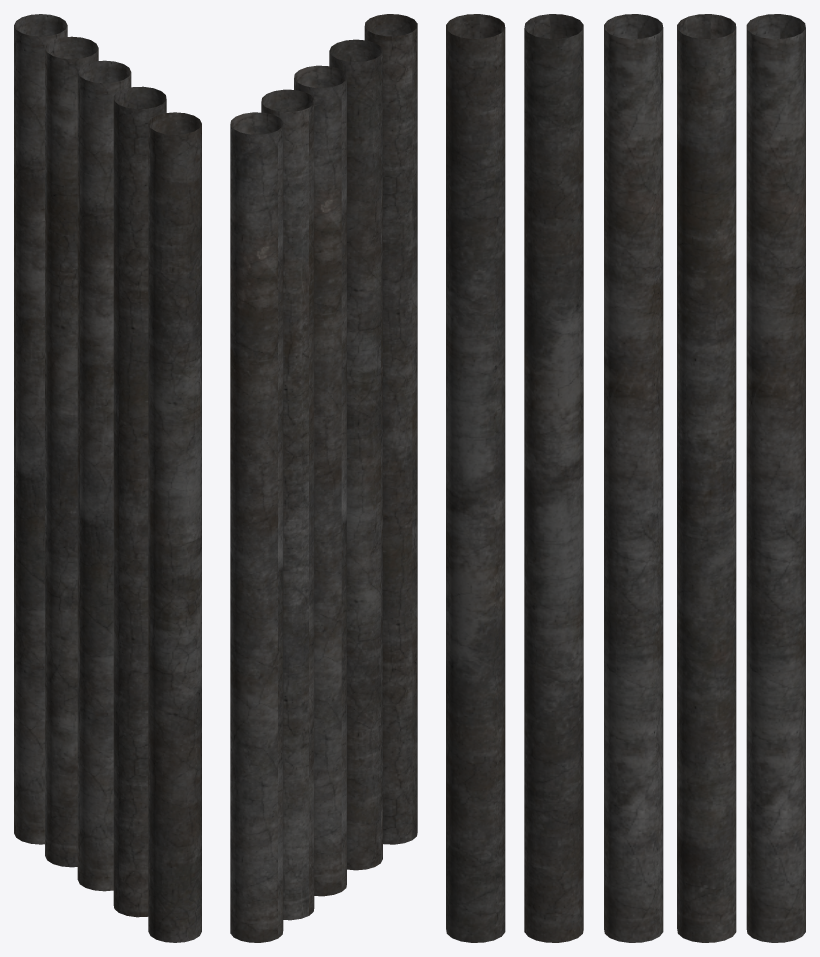
File: Shaft_Pipes_D.glb
3 views of the same model, side by side, from view 1: azimuth 30°, elevation 25°; view 2: azimuth 150°, elevation 25°; view 3: azimuth 270°, elevation 25° (orthographic). The views are drawn at different scales.
Parts seen in each view (by area): view 1: Shaft_Pipes_D; view 2: Shaft_Pipes_D; view 3: Shaft_Pipes_D.
Boxes of the visible parts, x1,y1,x2,y2 form: Shaft_Pipes_D: (14, 14, 201, 942); Shaft_Pipes_D: (230, 14, 417, 942); Shaft_Pipes_D: (446, 14, 805, 942).
Size of the model in its own units: 0.1487 by 2.5 by 0.9022.
1 material, 1 textured.
